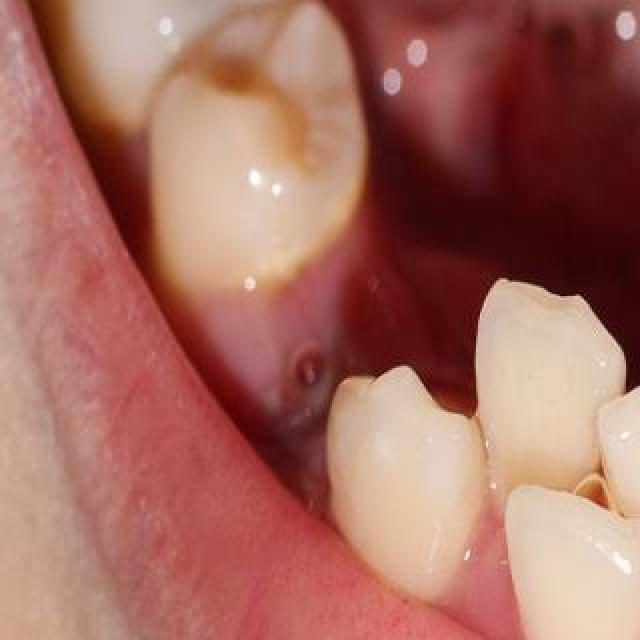maligned: (290, 328, 466, 618), (468, 240, 606, 472), (514, 474, 640, 640), (570, 340, 640, 608)
missing: (203, 212, 433, 456)
